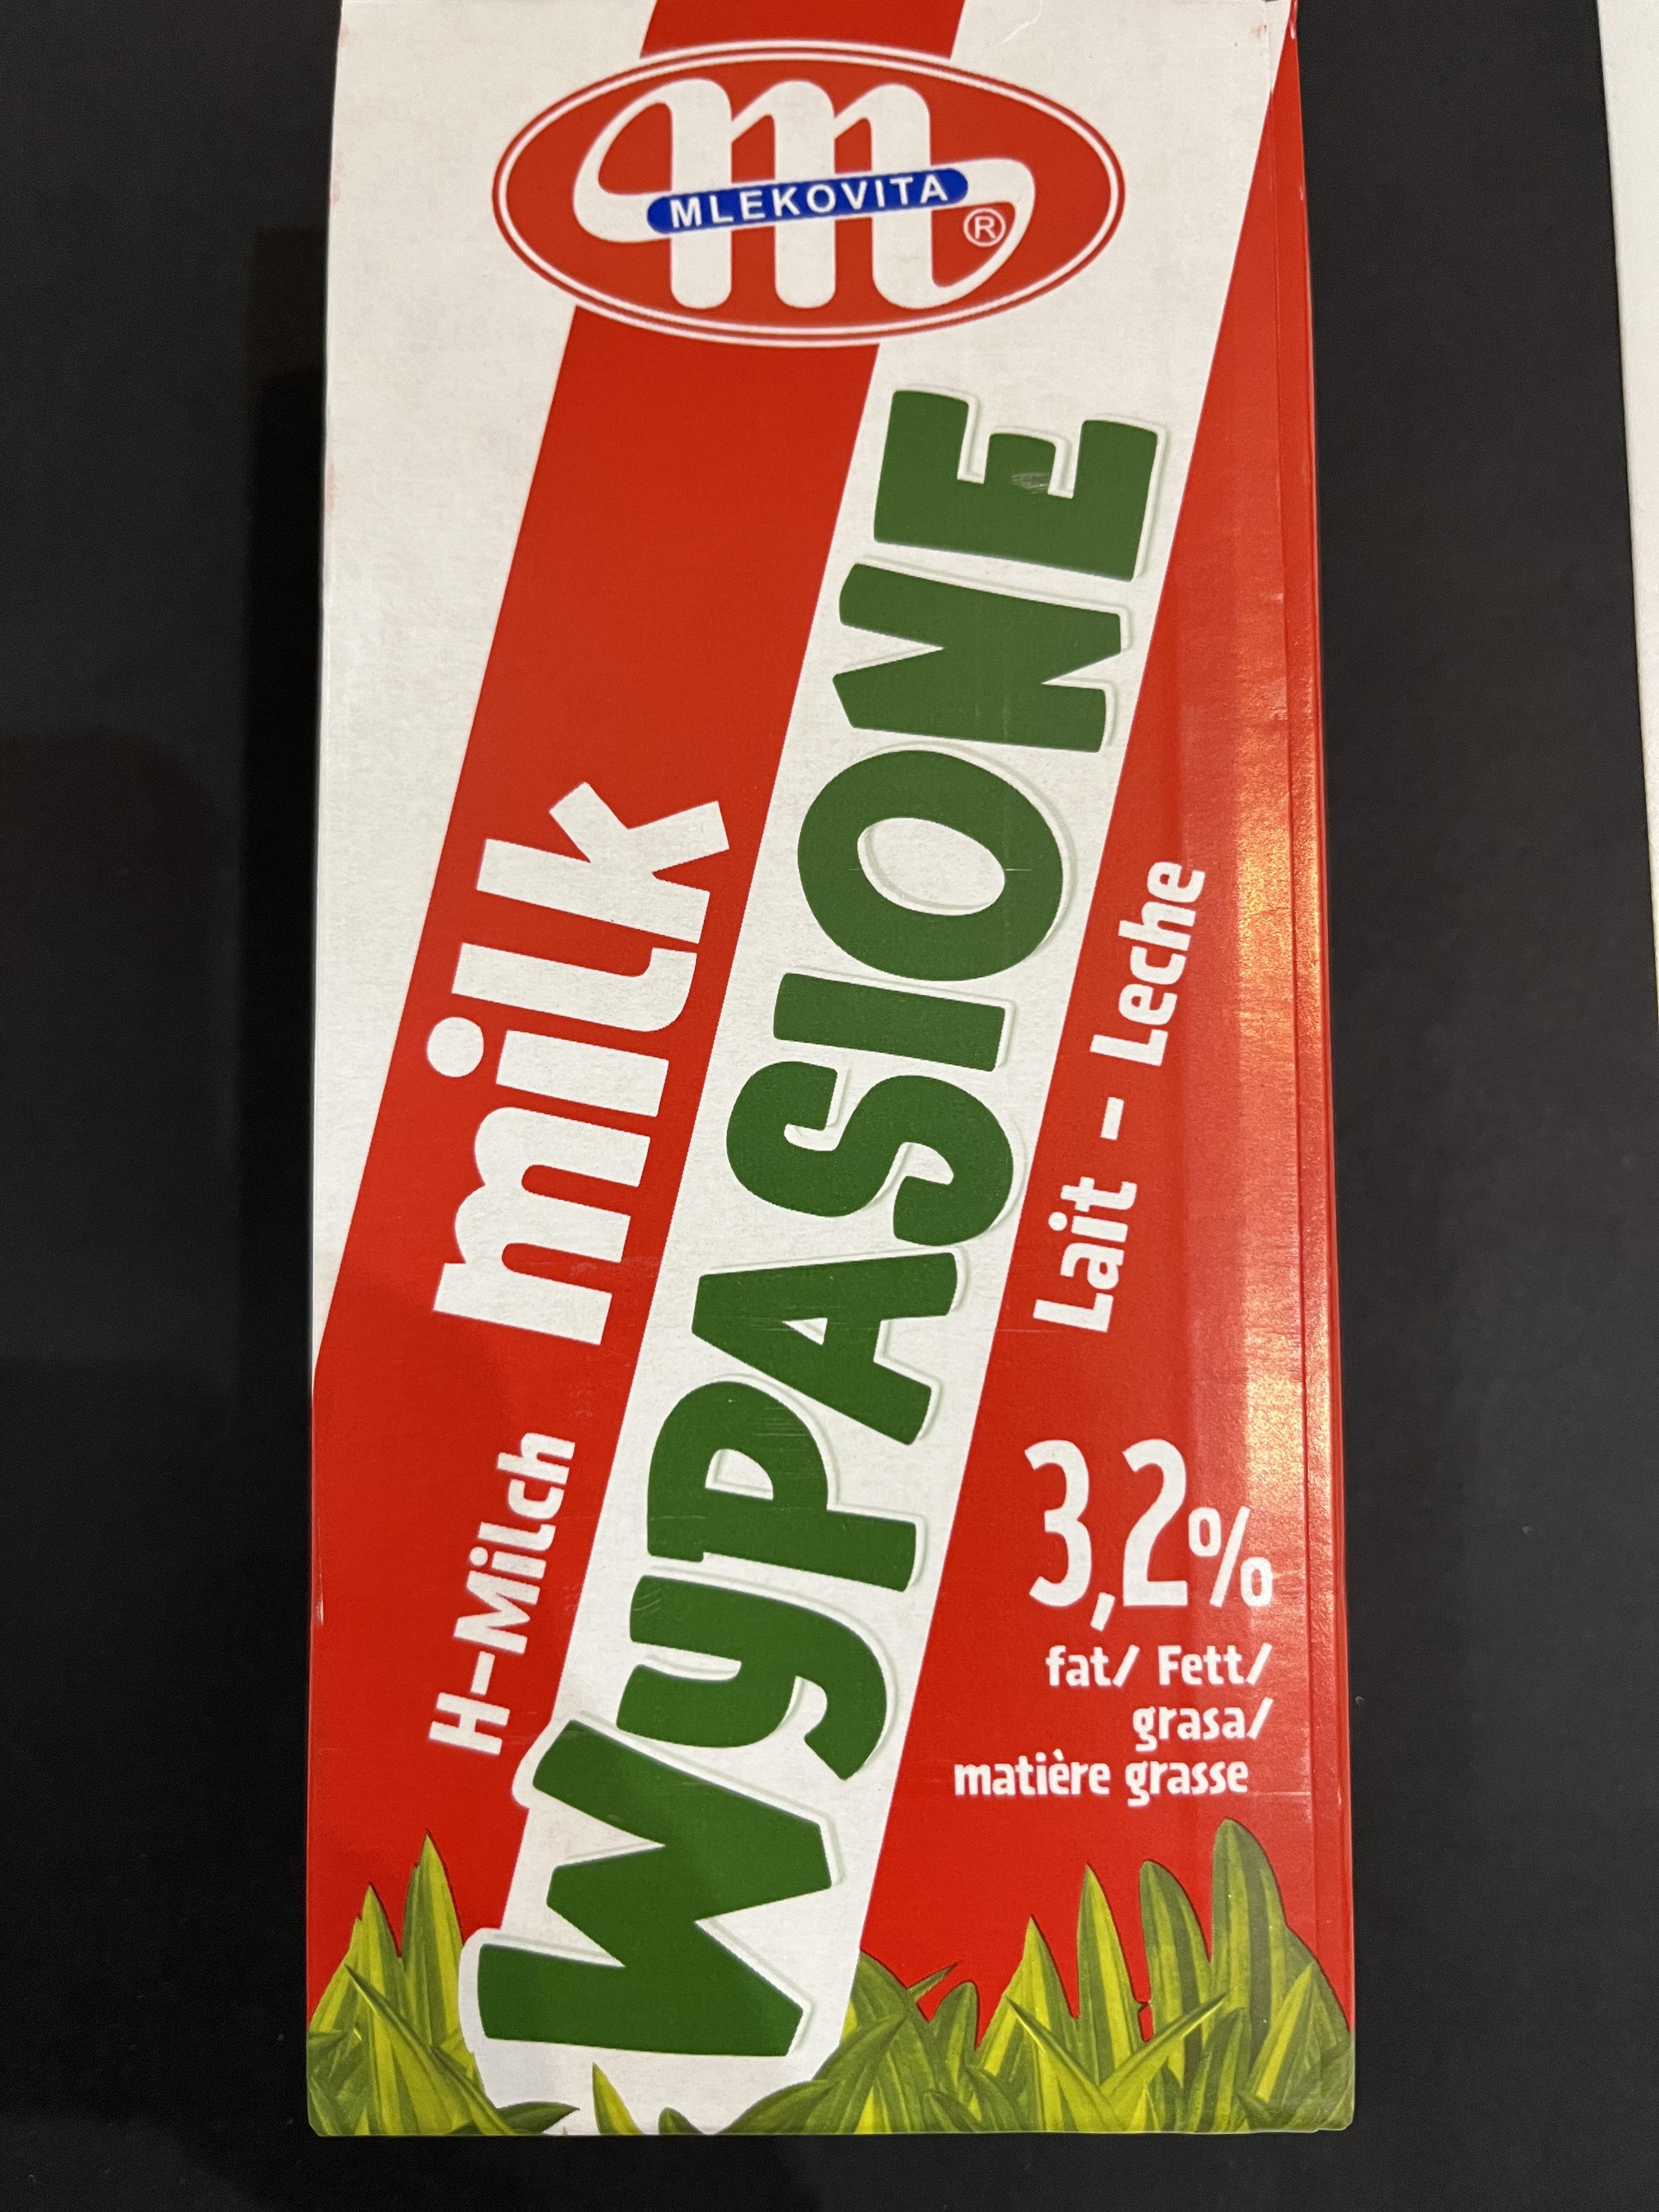Milk: (333, 33, 1358, 2142)
